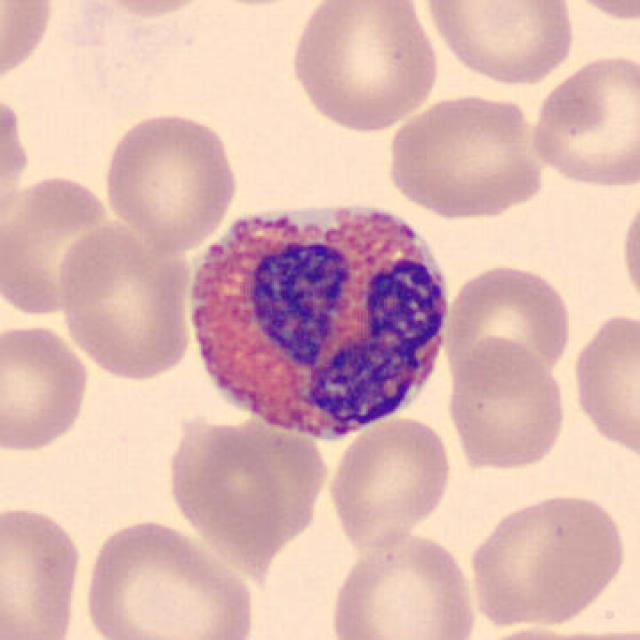Eosinophil: (174, 187, 459, 455)
RBC: (464, 488, 629, 632), (162, 411, 327, 552), (54, 217, 195, 382), (78, 515, 260, 640), (382, 90, 548, 220), (100, 106, 242, 254), (286, 2, 443, 134), (325, 412, 455, 548), (2, 171, 119, 321), (441, 261, 576, 391), (442, 335, 570, 472), (325, 527, 480, 640), (526, 49, 638, 192), (418, 0, 578, 88), (0, 319, 92, 455), (0, 500, 87, 640), (567, 305, 640, 467), (0, 0, 57, 90), (0, 90, 32, 241), (617, 184, 640, 316), (76, 0, 222, 19), (464, 624, 610, 640), (554, 0, 640, 23)
